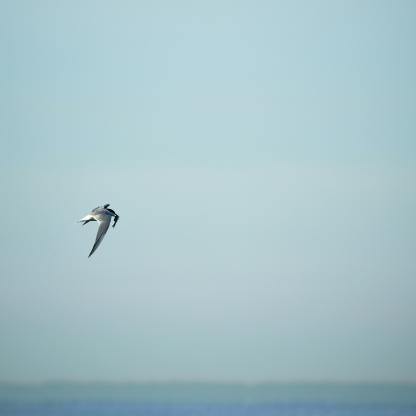bird: (78, 205, 118, 258)
